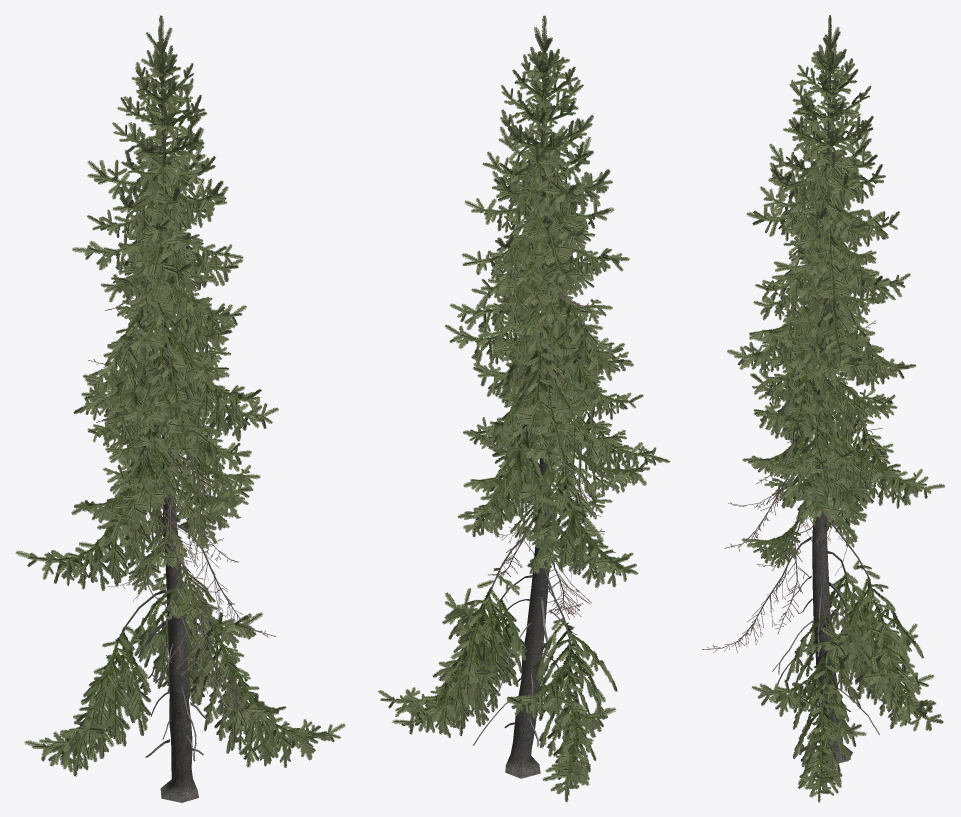
The model's file is Picea mariana HD_Arctic mat 100_LOD2.fbx.
3 renders of one model, left to right at view 1: azimuth 30°, elevation 25°; view 2: azimuth 150°, elevation 25°; view 3: azimuth 270°, elevation 25°, orthographic. The views are drawn at different scales.
Visible parts, largest first — view 1: Picea_mariana_HD; view 2: Picea_mariana_HD; view 3: Picea_mariana_HD.
Part boxes in pixels (x1,y1,x2,y2): Picea_mariana_HD: [15, 15, 345, 802]; Picea_mariana_HD: [378, 15, 670, 801]; Picea_mariana_HD: [702, 15, 945, 802].
Size of the model in its own units: 1.99 by 4.99 by 1.52.
9 materials, 8 textured.
